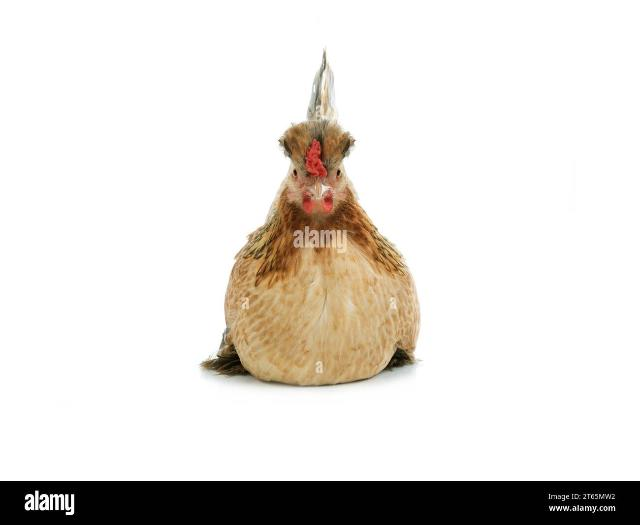Chicken: (201, 48, 423, 388)
